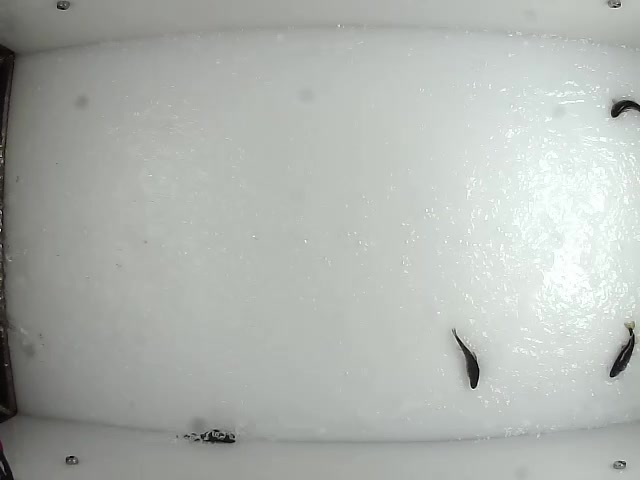fish: (448, 326, 479, 391), (607, 319, 638, 381), (172, 423, 240, 444)
